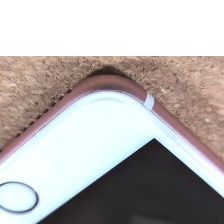phone: (0, 66, 224, 224)
